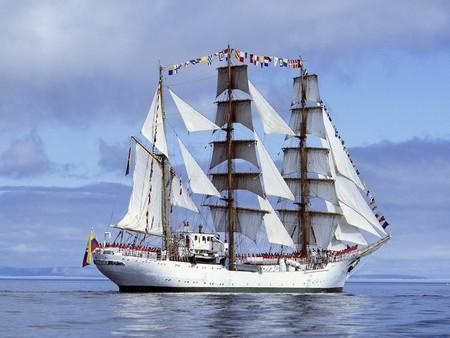fanchuan: (87, 39, 391, 293)
